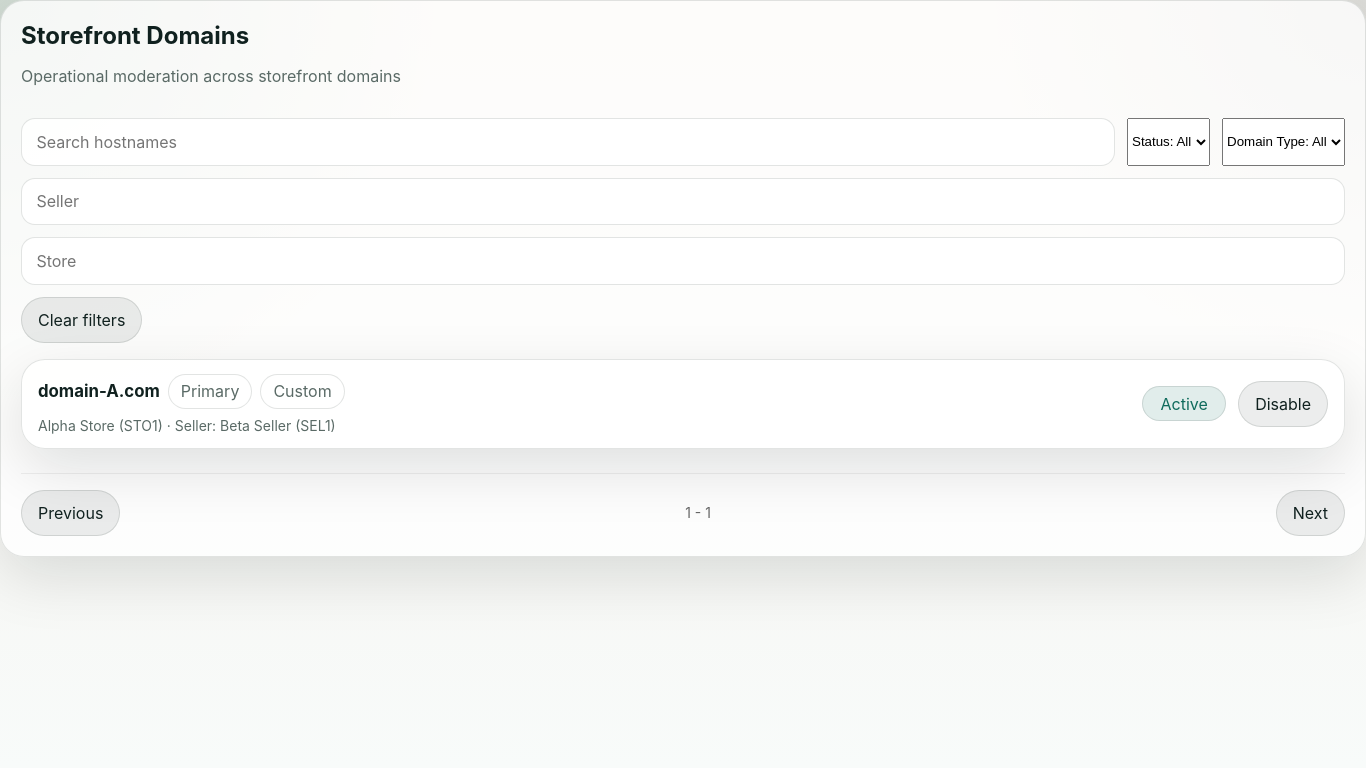
Test: DomainModerationPanel › unlocks stale action button when returning to view after action finishes out-of-view
Expected: the text "domain-A.com" is shown, [38,381,160,401]
Note: Start Disable on domain A
Click the button with test id "disable-btn-dom-A" at {"x": 1283, "y": 404}, box [1238,381,1328,427]
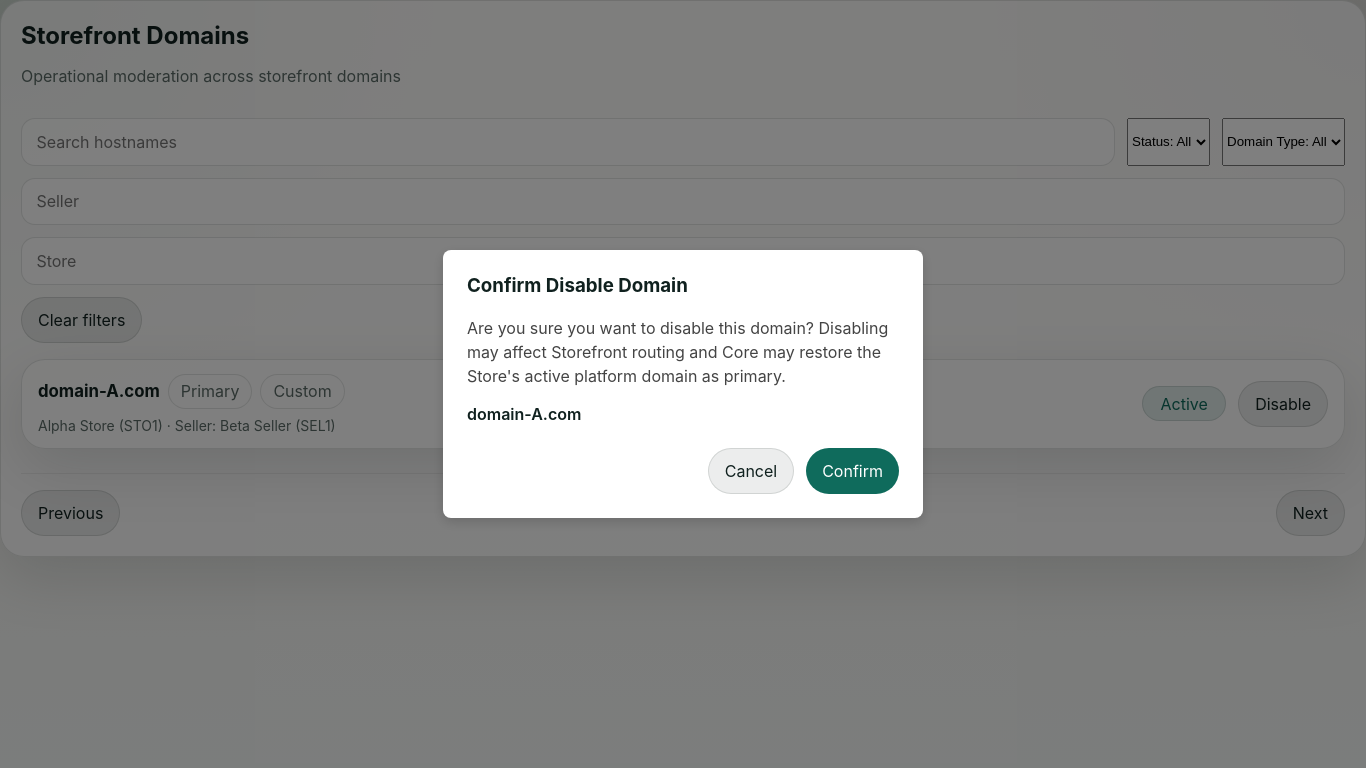
Click the button with test id "confirm-submit" at {"x": 853, "y": 471}, box [806,448,899,494]
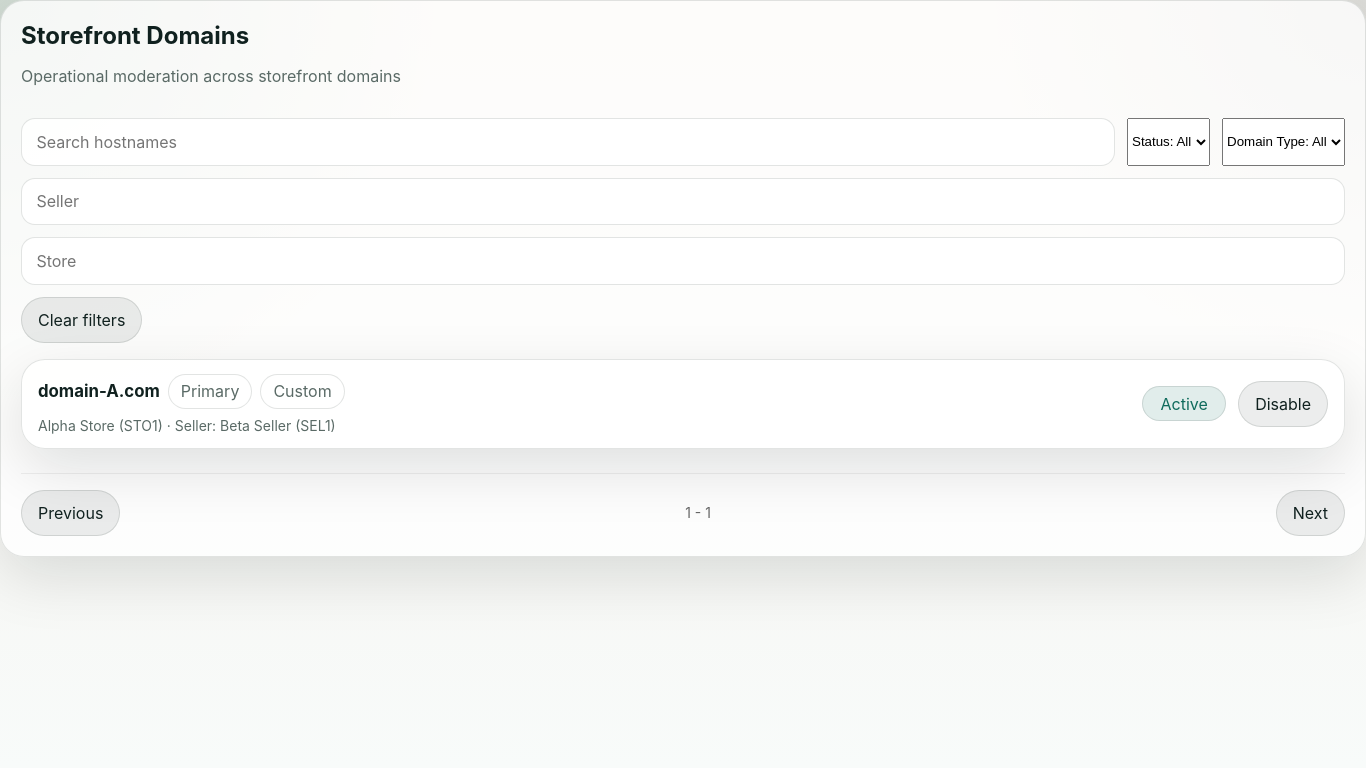
Select "Disabled" in the dropdown named "Status" at {"x": 1168, "y": 142}, box [1127,118,1210,166]
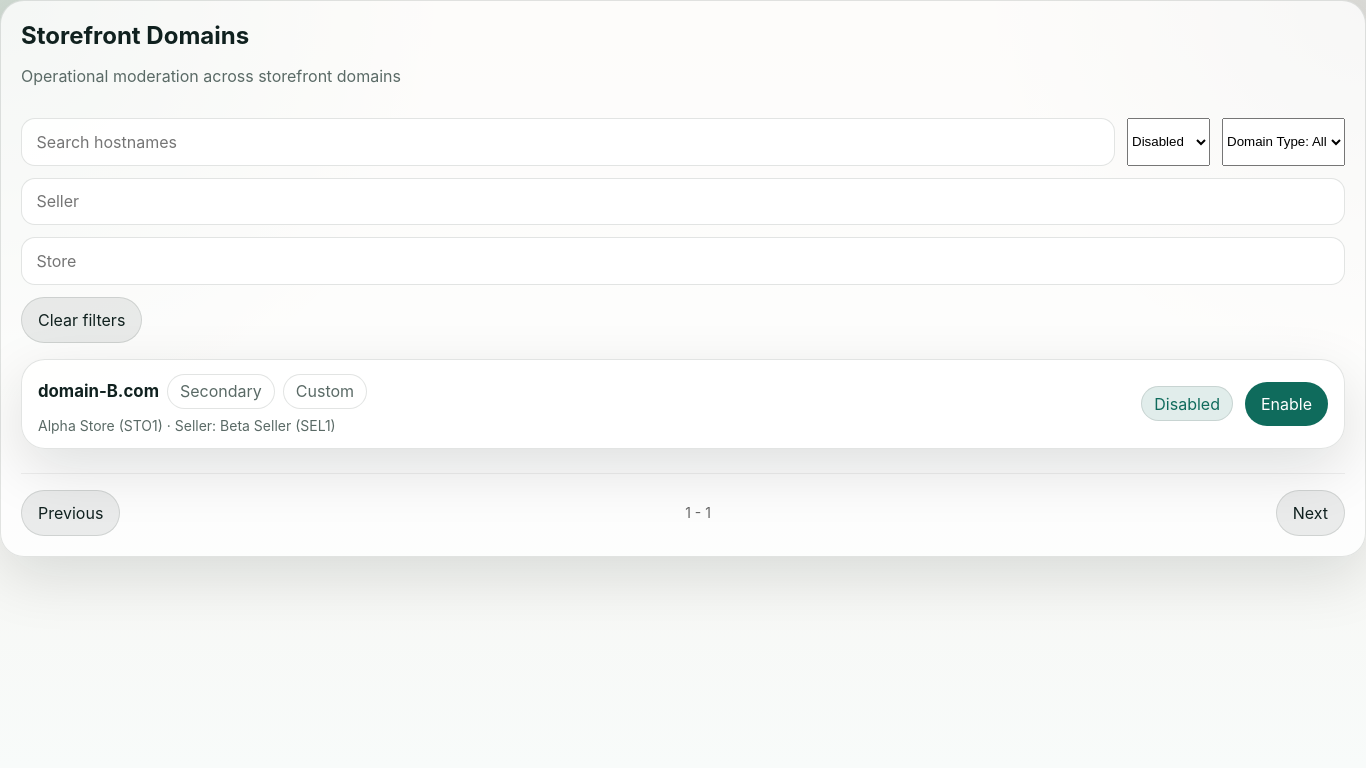
Now the text "domain-B.com" is shown, box [38,381,159,401]
Note: Switch back to View A (all status)
Select "Status: All" in the dropdown named "Status" at {"x": 1168, "y": 142}, box [1127,118,1210,166]
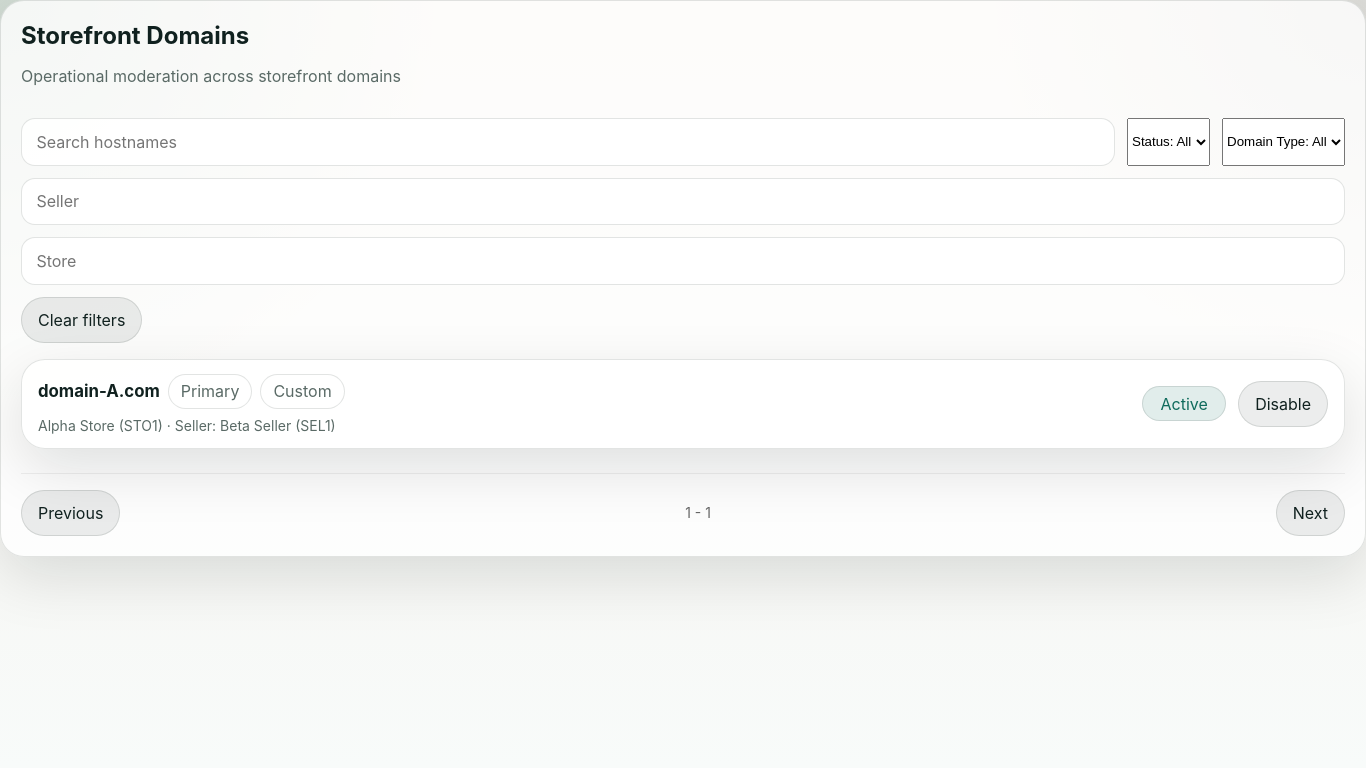
Now the button with test id "disable-btn-dom-A" is enabled, box [1238,381,1328,427]
Now the text "domain-A.com" is shown, box [38,381,160,401]
